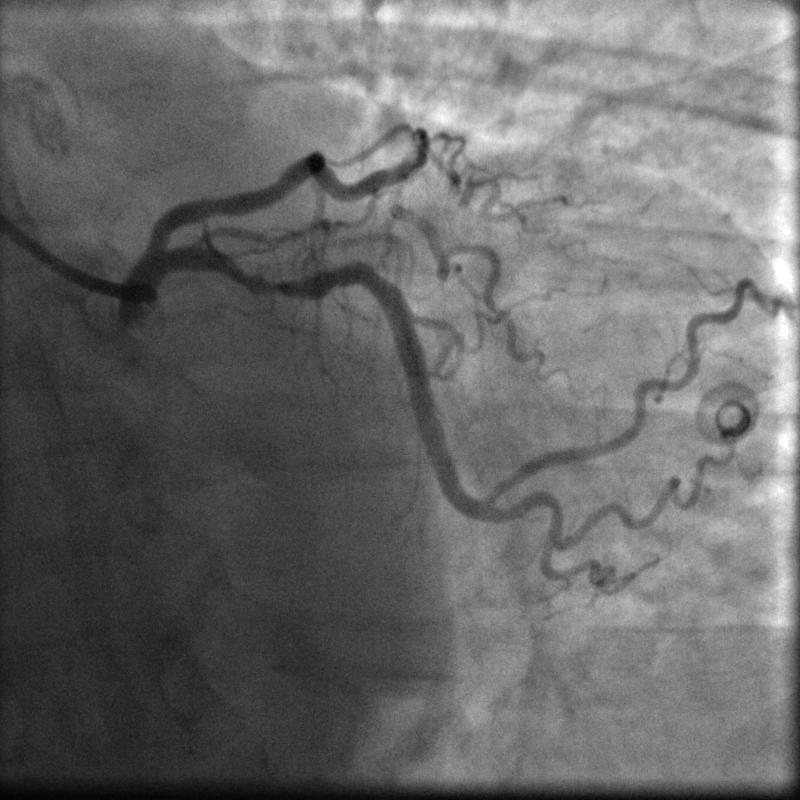Stenosis: (243, 265, 310, 300)
